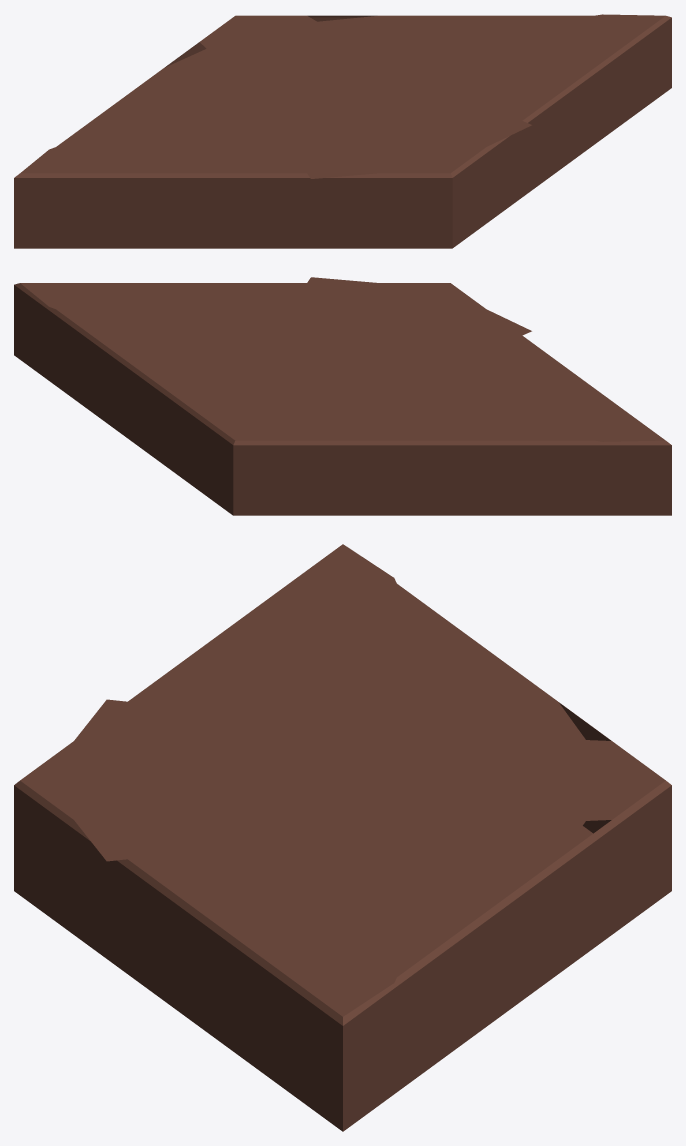
File: mahsulot.glb
3 views of the same model, one above another, from view 1: azimuth 30°, elevation 25°; view 2: azimuth 150°, elevation 25°; view 3: azimuth 270°, elevation 25° (orthographic). The views are drawn at different scales.
Parts seen in each view (by area): view 1: mahsulot_A; view 2: mahsulot_A; view 3: mahsulot_A.
Boxes of the visible parts, x1,y1,x2,y2 form: mahsulot_A: [14, 14, 671, 248]; mahsulot_A: [14, 277, 671, 515]; mahsulot_A: [14, 544, 671, 1131].
Bounding box in the file's own units: 0.327 × 0.035 × 0.1888.
